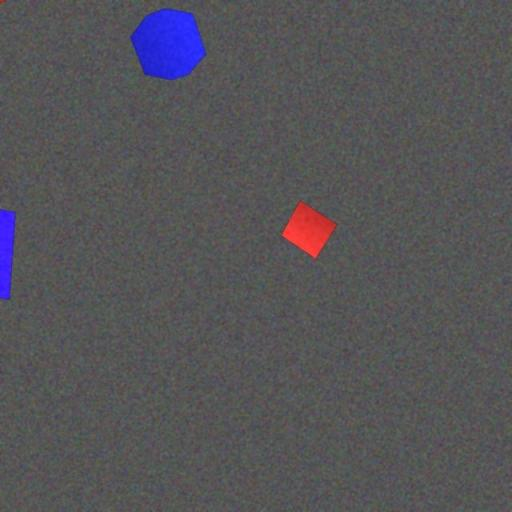RED_SQUARE: (280, 199, 338, 259)
